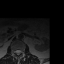CCS_normal: (17, 47, 19, 57)
LFS_normal: (21, 47, 23, 54)
LLS_normal: (19, 47, 21, 55)
RFS_normal: (12, 47, 14, 55)
RLS_normal: (14, 48, 17, 55)
